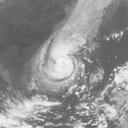cyclone: (31, 44, 79, 91)
